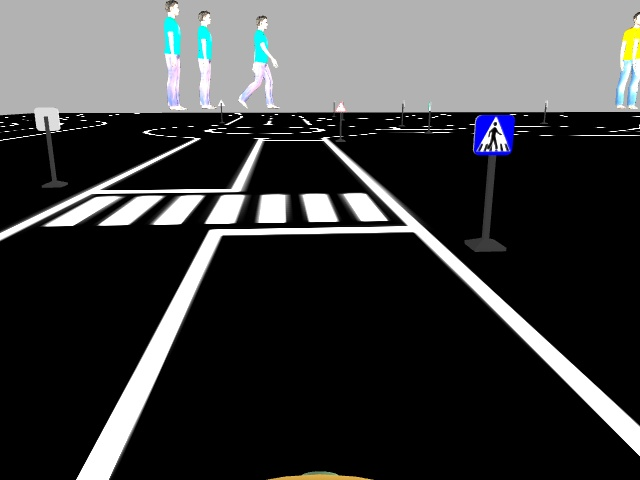Crosswalk: (474, 114, 514, 156)
